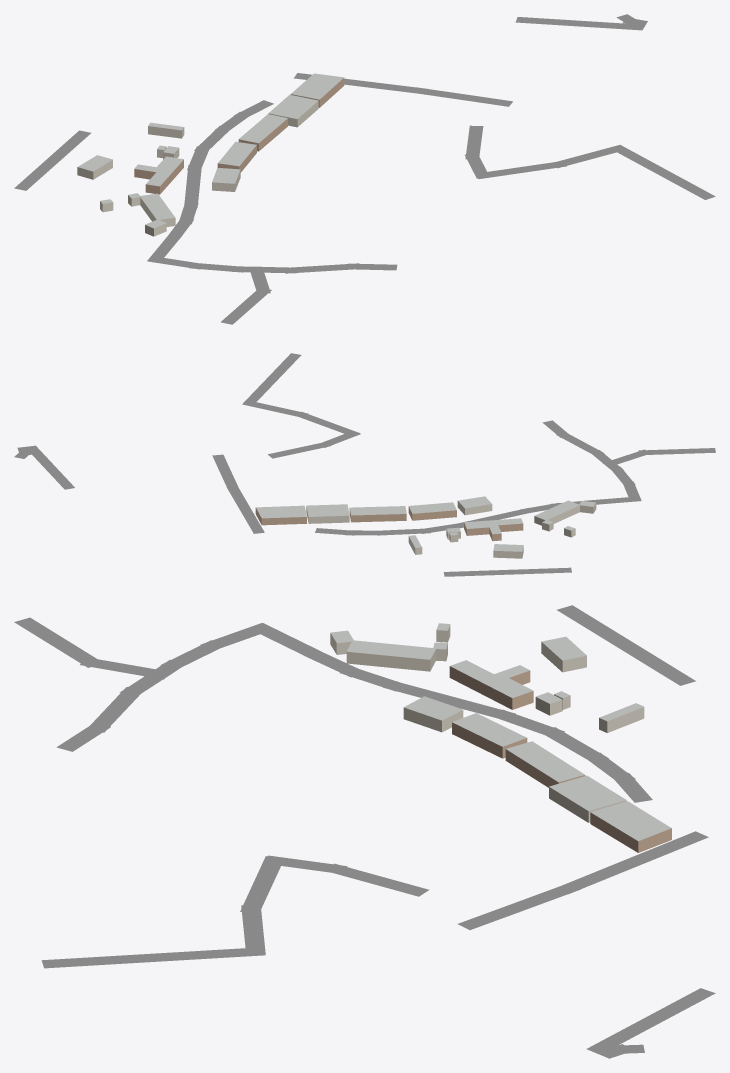
File: bolak_1_10.glb
3 renders of one model, top to bottom at view 1: azimuth 30°, elevation 25°; view 2: azimuth 150°, elevation 25°; view 3: azimuth 270°, elevation 25°, orthographic. The views are drawn at different scales.
Visible parts, largest first — view 1: Yol_Mahalla, Tom_Shifer, Devor_Suvoq-col, Devor_Gisht-col; view 2: Yol_Mahalla, Tom_Shifer, Devor_Suvoq-col, Devor_Gisht-col; view 3: Yol_Mahalla, Tom_Shifer, Devor_Suvoq-col, Devor_Gisht-col.
Part boxes in pixels (x1,y1,x2,y2): Yol_Mahalla: (14, 14, 715, 324); Tom_Shifer: (78, 73, 343, 228); Devor_Suvoq-col: (77, 101, 318, 236); Devor_Gisht-col: (134, 78, 344, 194); Yol_Mahalla: (14, 353, 715, 576); Tom_Shifer: (256, 496, 595, 551); Devor_Suvoq-col: (306, 501, 596, 558); Devor_Gisht-col: (255, 506, 523, 541); Yol_Mahalla: (14, 605, 715, 1058); Tom_Shifer: (330, 623, 671, 841); Devor_Suvoq-col: (330, 625, 644, 822); Devor_Gisht-col: (449, 666, 671, 852).
Size of the model in its own units: 329 by 4 by 215.
